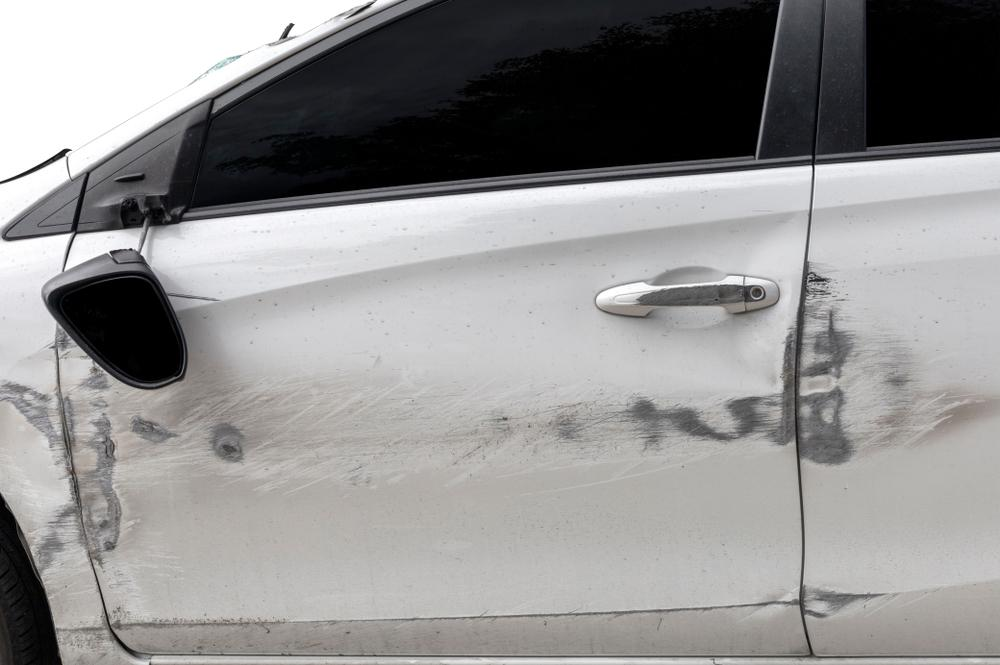scratch: (58, 323, 800, 618), (798, 256, 1000, 469), (0, 367, 83, 592), (796, 580, 895, 620)
